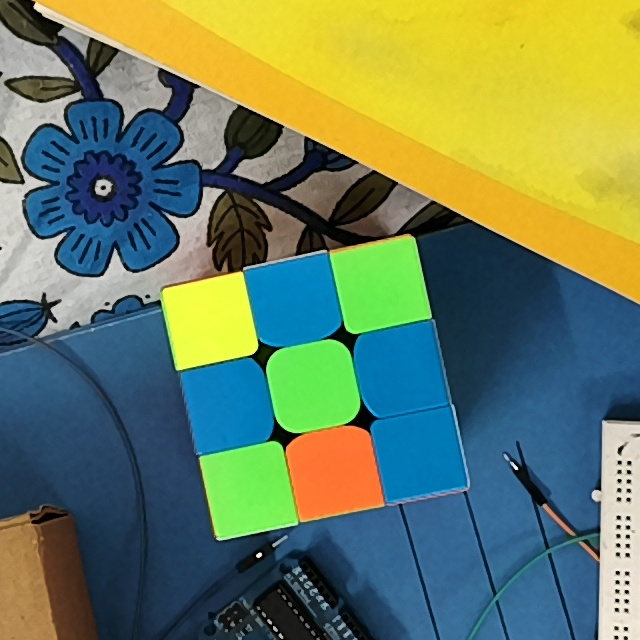tile: (346, 253, 418, 319), (259, 266, 327, 334), (366, 336, 436, 402), (386, 420, 453, 488), (214, 457, 283, 522), (195, 371, 261, 438), (300, 437, 366, 504), (277, 355, 348, 417), (174, 290, 243, 350)
